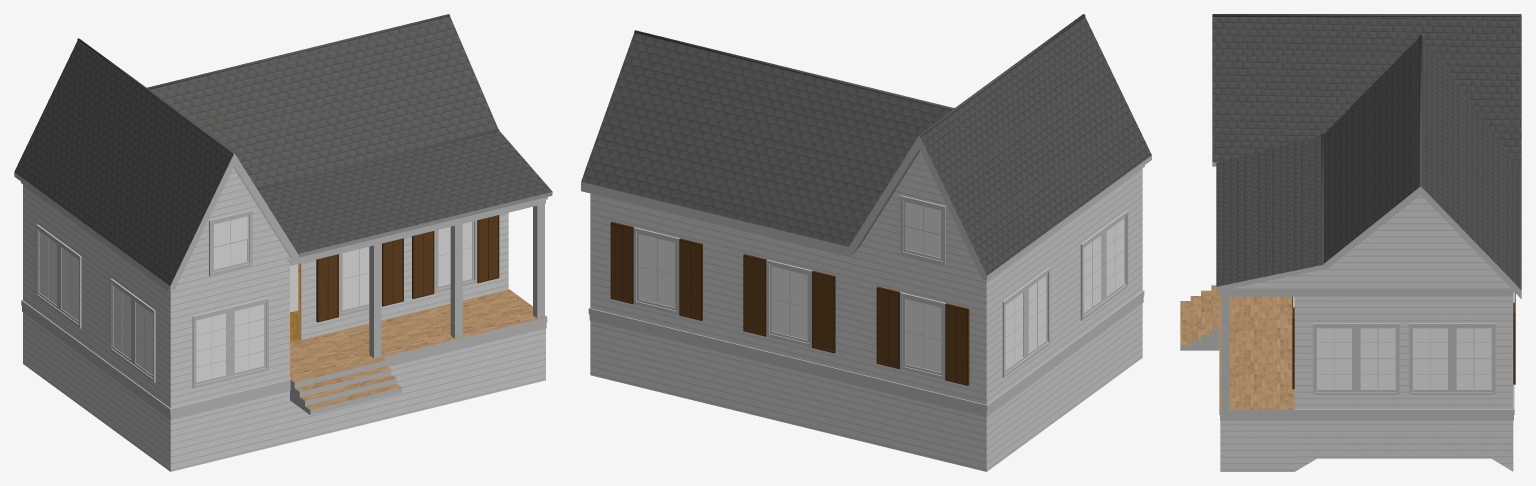
File: house_4.dae
The picture shows the model from 3 angles, left to right: view 1: azimuth 30°, elevation 25°; view 2: azimuth 150°, elevation 25°; view 3: azimuth 270°, elevation 25°; orthographic projection. The views are drawn at different scales.
Parts seen in each view (by area): view 1: Plane.005; view 2: Plane.005; view 3: Plane.005.
Part boxes in pixels (bbox=[...]): Plane.005: bbox=[14, 14, 552, 471]; Plane.005: bbox=[581, 14, 1151, 471]; Plane.005: bbox=[1180, 14, 1521, 471].
Bounding box in the file's own units: 24.33 × 18.87 × 18.62.
